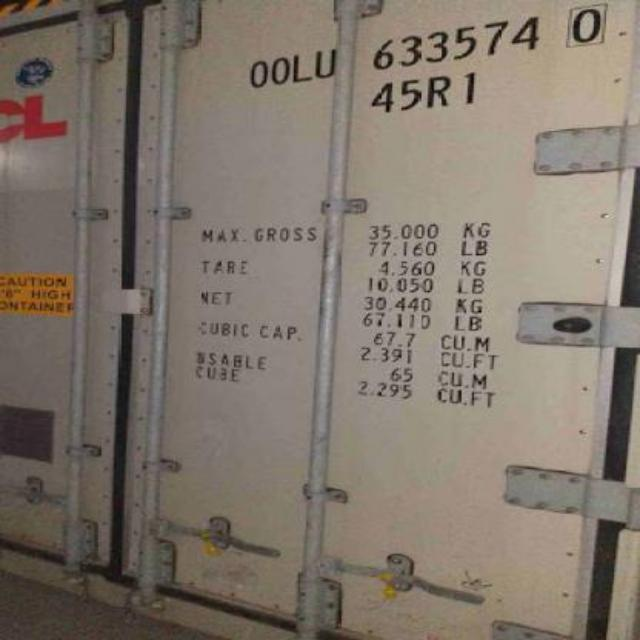0: (570, 8, 604, 42)
3: (424, 29, 450, 62), (398, 35, 424, 67)
4: (512, 13, 546, 51)
5: (454, 24, 480, 60)
6: (370, 38, 398, 72)
7: (478, 19, 512, 57)
L: (290, 54, 316, 82)
O: (244, 58, 272, 88), (268, 56, 292, 85)
U: (310, 50, 340, 78)
